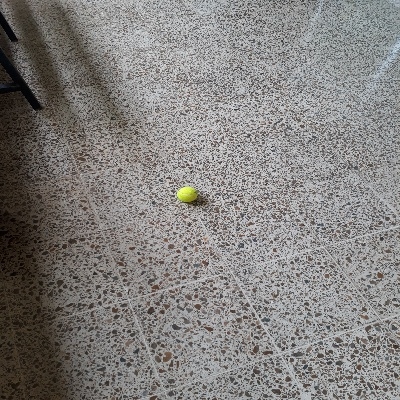Ball: (178, 185, 197, 202)
